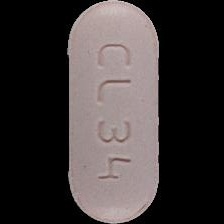68788-9763: (0, 0, 224, 224)
